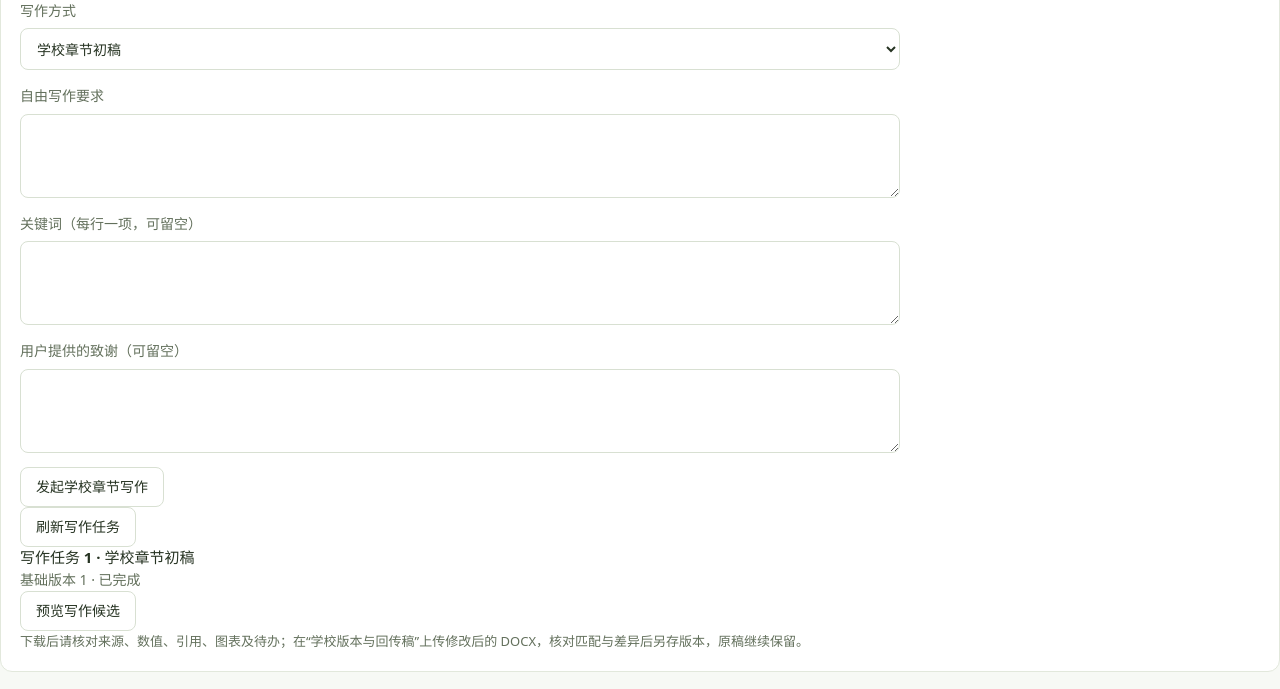
Test case: blocks school publication when the content report has a hard missing chapter
(page scrolled)
Click the button "预览写作候选".
click(78, 611)  # box [20, 591, 136, 631]
(page scrolled)
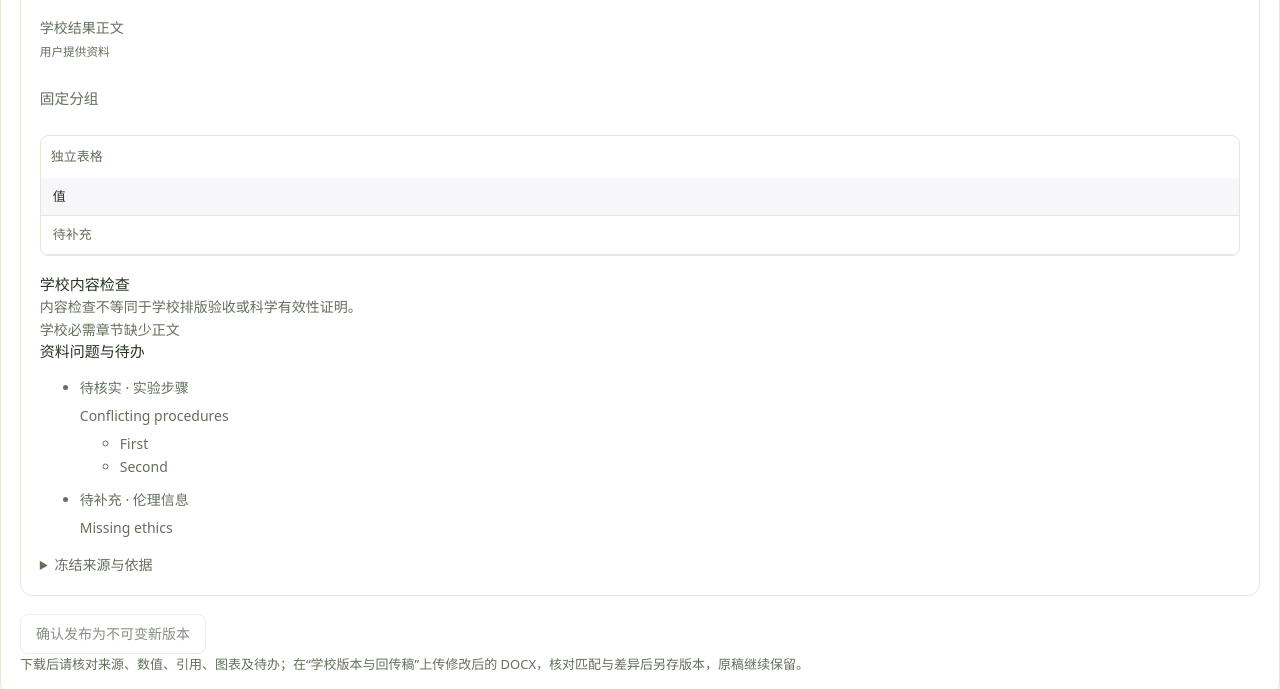
Expected: the text "学校必需章节缺少正文" is shown, [40, 320, 180, 339]
